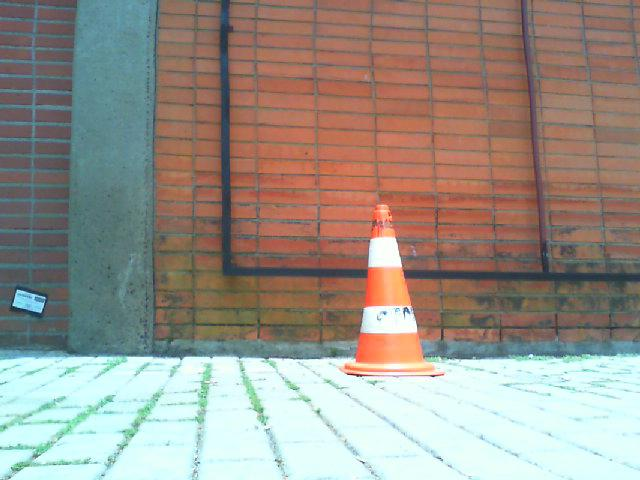0 cone: (338, 204, 446, 375)
